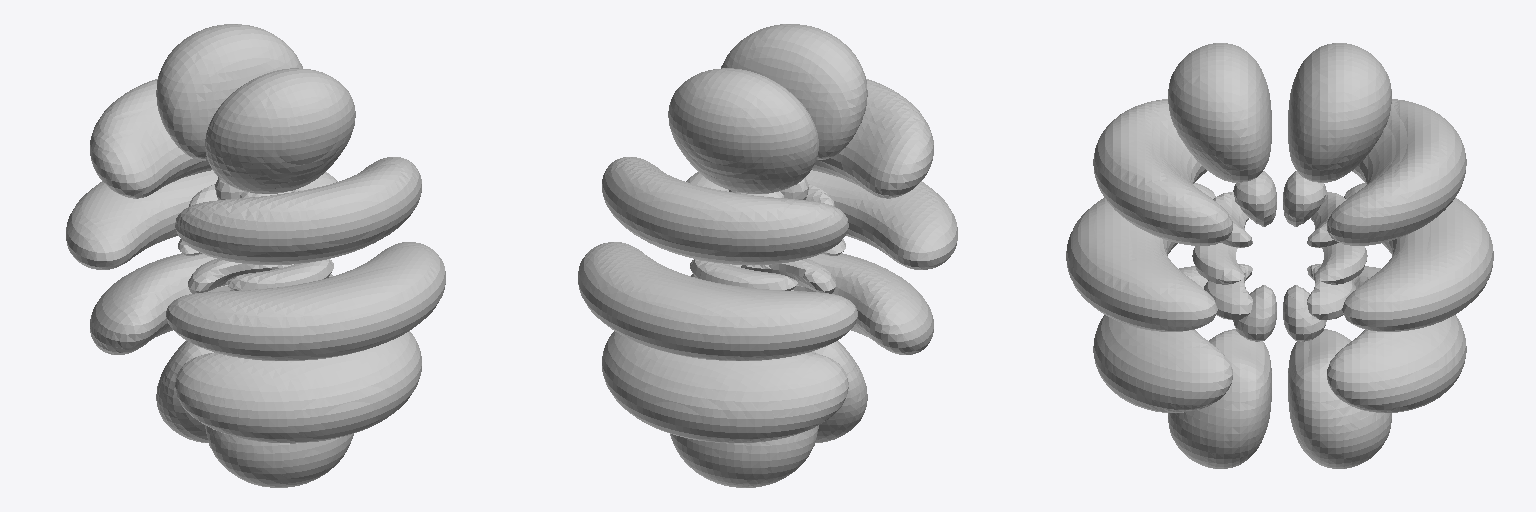
Rendered from orb_n=7_ l=5 _m=-1.obj.
The picture shows the model from 3 angles: view 1: azimuth 30°, elevation 25°; view 2: azimuth 150°, elevation 25°; view 3: azimuth 270°, elevation 25°; orthographic projection.
Parts seen in each view (by area): view 1: orb_n=7__l=5__m=-1; view 2: orb_n=7__l=5__m=-1; view 3: orb_n=7__l=5__m=-1.
Part boxes in pixels (x1,y1,x2,y2): orb_n=7__l=5__m=-1: (66,24,445,487); orb_n=7__l=5__m=-1: (578,24,957,487); orb_n=7__l=5__m=-1: (1066,43,1493,468).
Size of the model in its own units: 128 by 188 by 179.